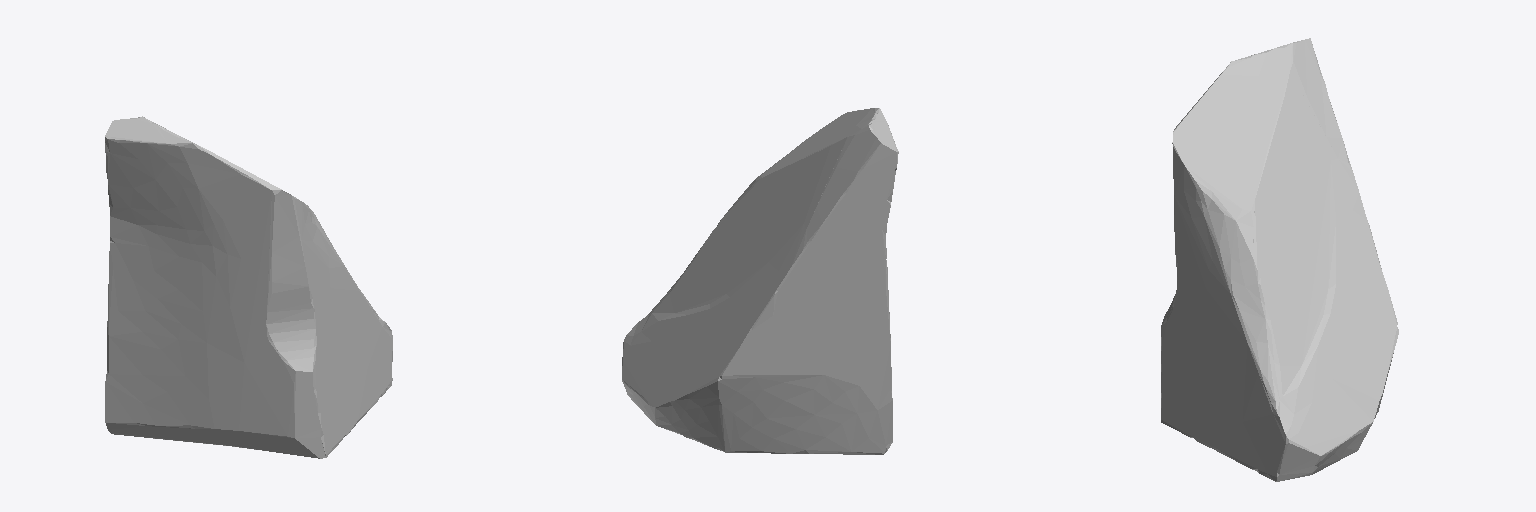
The model's file is sm_rock7.OBJ.
3 views of the same model, side by side, from view 1: azimuth 30°, elevation 25°; view 2: azimuth 150°, elevation 25°; view 3: azimuth 270°, elevation 25° (orthographic).
Visible parts, largest first — view 1: ZBrushPolyMesh3D; view 2: ZBrushPolyMesh3D; view 3: ZBrushPolyMesh3D.
Part boxes in pixels (x1,y1,x2,y2): ZBrushPolyMesh3D: (105,116,392,458); ZBrushPolyMesh3D: (622,108,898,454); ZBrushPolyMesh3D: (1161,38,1398,481).
Bounding box in the file's own units: 2.19 × 2.4 × 1.62.